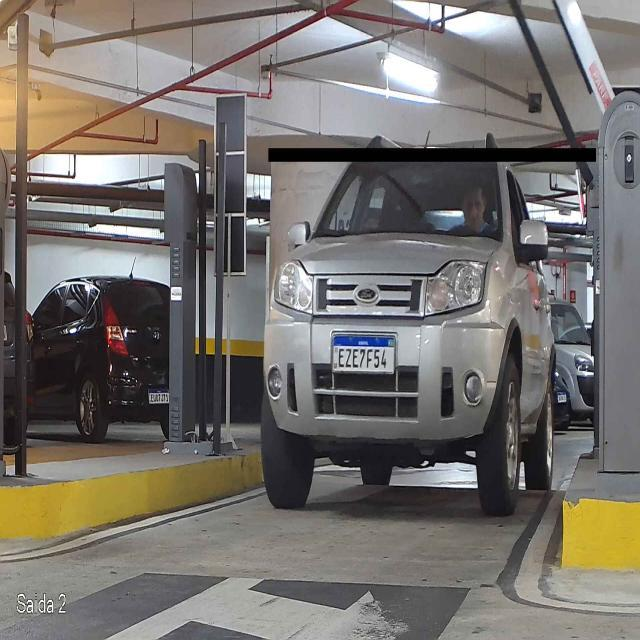mercosul_plate: (331, 334, 396, 376)
